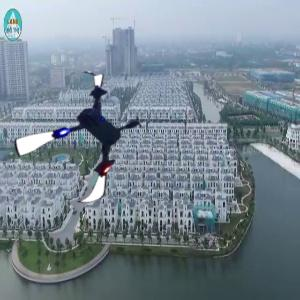drone: (17, 75, 153, 211)
